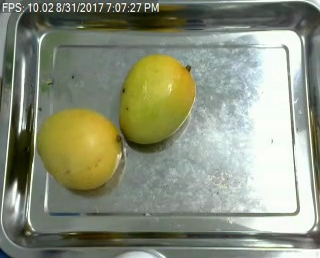Mango: (39, 109, 122, 190), (119, 55, 191, 145)
